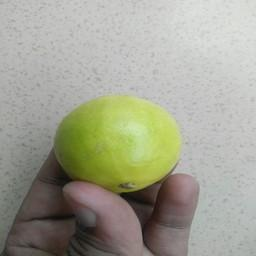Good_lime: (52, 95, 183, 195)
